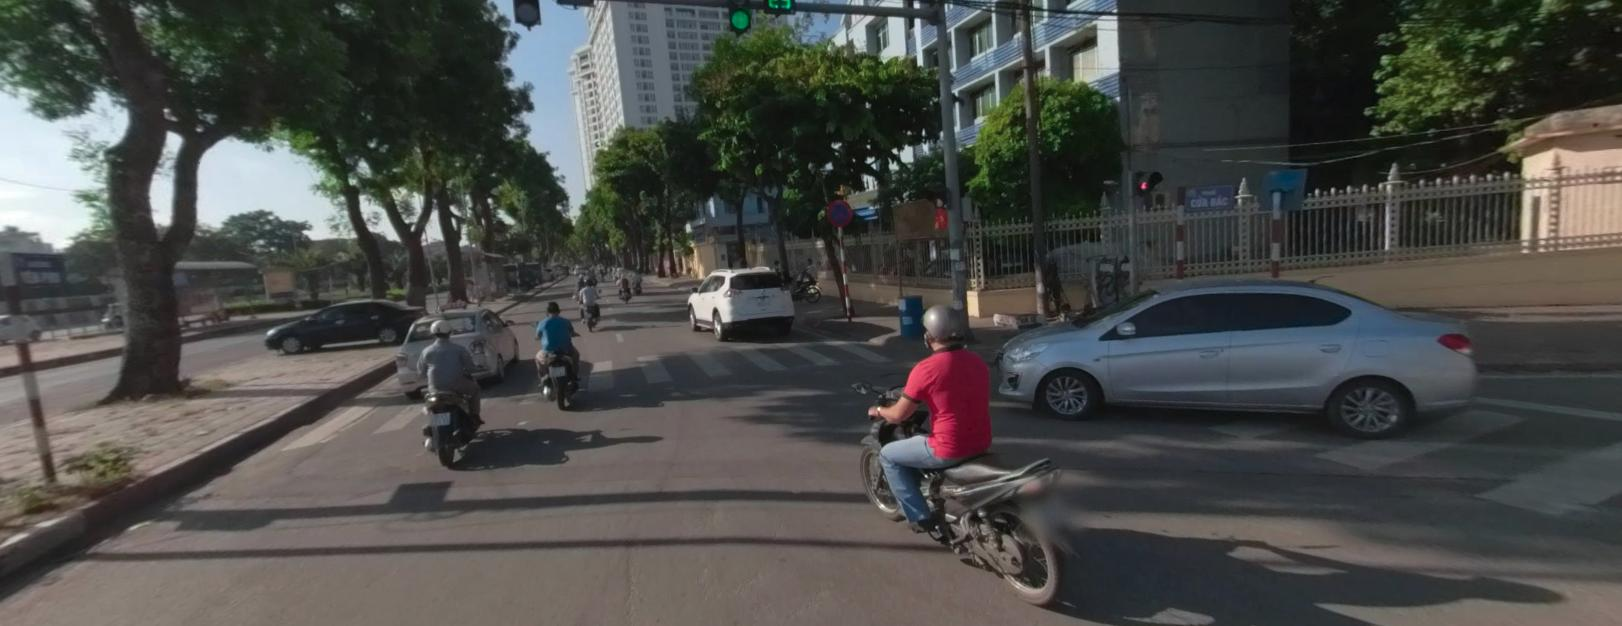Cam dung va do: (826, 198, 851, 225)
